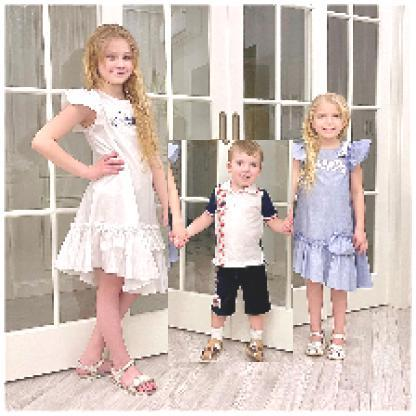child: (169, 141, 295, 364), (276, 93, 375, 359)
